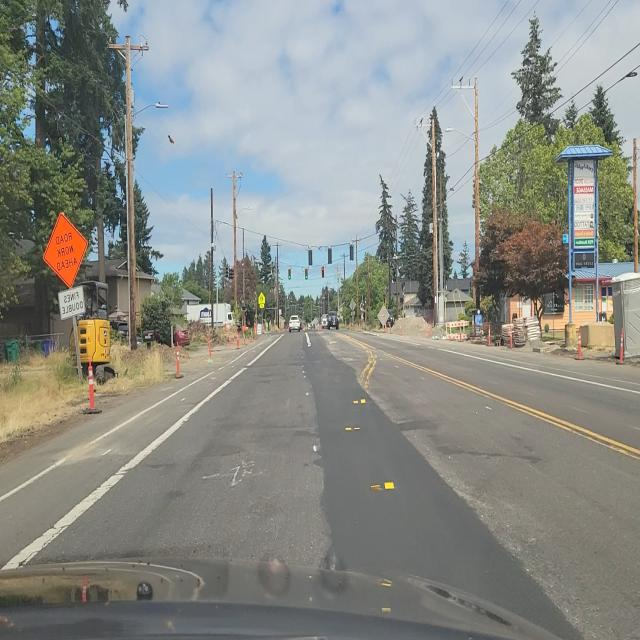car: (327, 312, 339, 329), (288, 316, 300, 331)
crosswalk-sign: (258, 292, 266, 308)
delineator: (86, 360, 98, 412), (618, 327, 624, 363), (175, 344, 181, 379), (577, 325, 582, 361), (509, 322, 514, 349), (242, 327, 247, 346), (208, 336, 212, 358), (236, 328, 240, 348), (488, 323, 491, 346), (249, 325, 253, 340), (427, 322, 431, 336), (228, 332, 232, 345), (398, 322, 402, 334), (254, 322, 257, 338), (389, 323, 392, 333)
